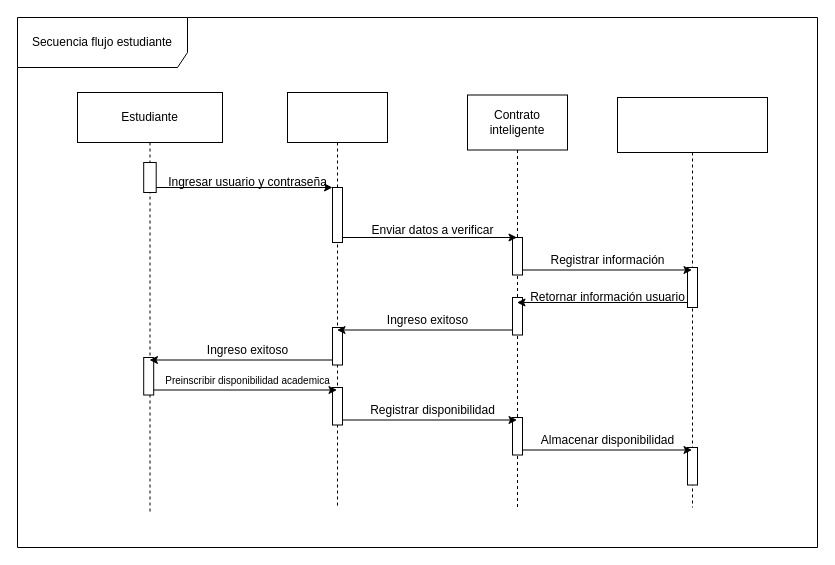
Image size: 835x565. Some labels were removed from this diagram. The box of each missing label's shape, as (x1, y1, x2, y2) in pixels:
Blockchain: (616, 96, 768, 508)
Frontend: (286, 92, 388, 508)
